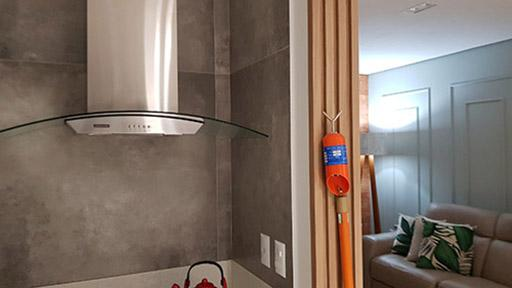Detector_Tensao_Contato: (320, 109, 351, 198)
